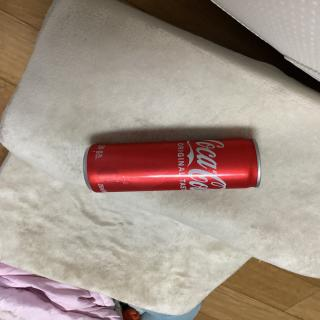cocacola: (79, 136, 266, 196)
